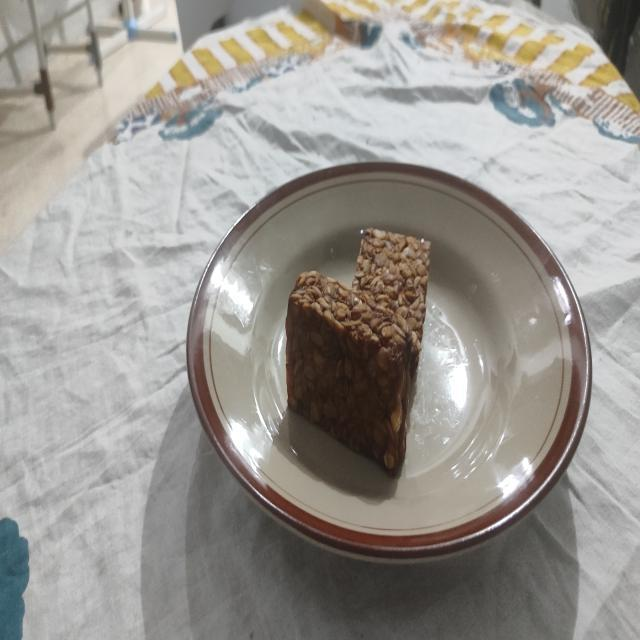tempe_goreng: (286, 271, 412, 475), (352, 228, 430, 375)
